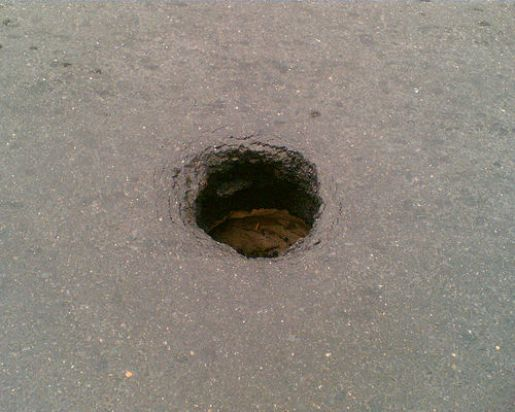pothole: (169, 132, 329, 261)
